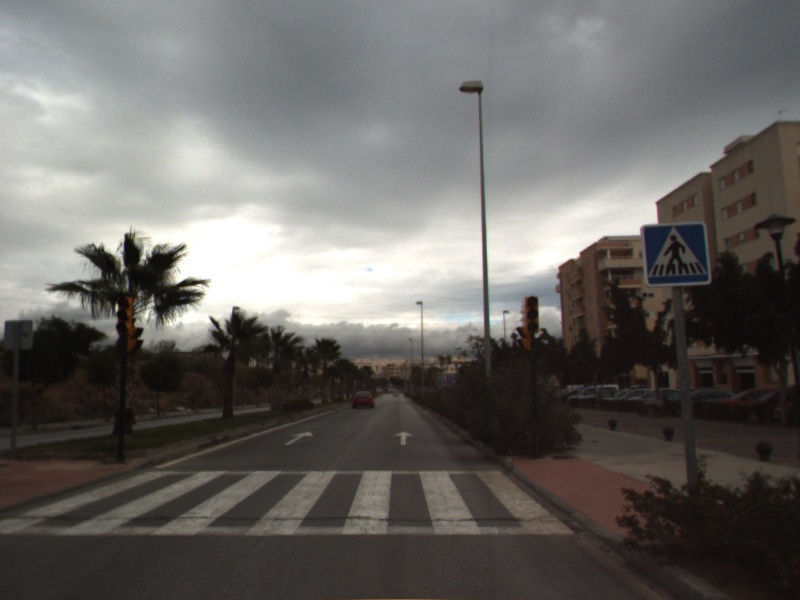STRAIGHT: (282, 429, 316, 447), (392, 429, 415, 447)
